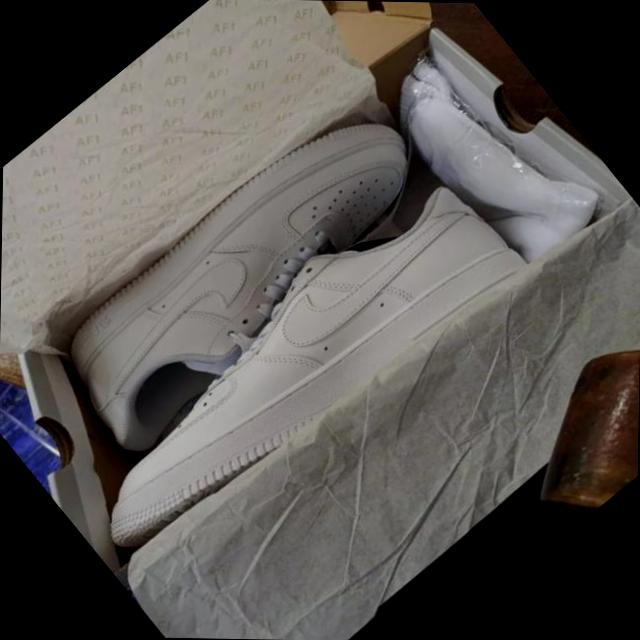nike_original_airforce: (42, 143, 530, 588), (0, 73, 460, 500)
